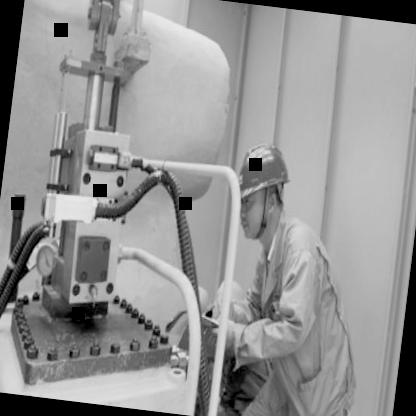helmet: (226, 125, 301, 248)
